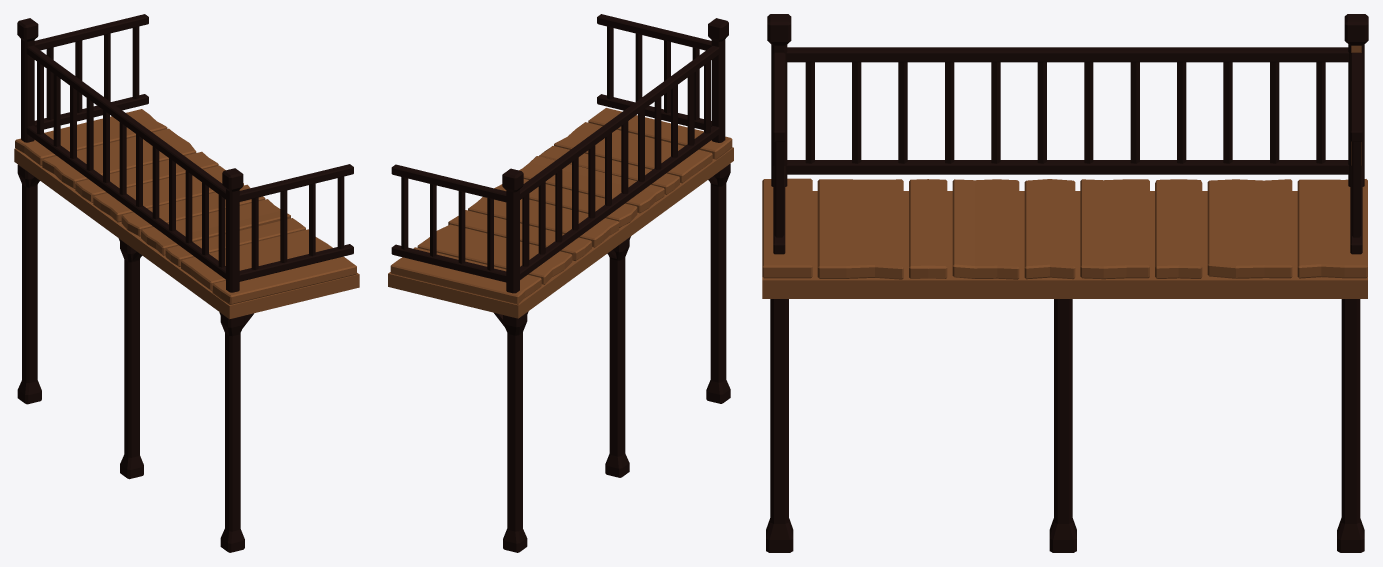
The model's file is ww_balcony_with_railing_a.glb.
The picture shows the model from 3 angles, left to right: view 1: azimuth 30°, elevation 25°; view 2: azimuth 150°, elevation 25°; view 3: azimuth 270°, elevation 25°; orthographic projection. The views are drawn at different scales.
Parts seen in each view (by area): view 1: Balcony_with_Railing_A; view 2: Balcony_with_Railing_A; view 3: Balcony_with_Railing_A.
Part boxes in pixels (x1,y1,x2,y2): Balcony_with_Railing_A: [14, 14, 359, 552]; Balcony_with_Railing_A: [388, 14, 733, 552]; Balcony_with_Railing_A: [762, 14, 1368, 552].
Size of the model in its own units: 1.84 by 5.11 by 5.28.
